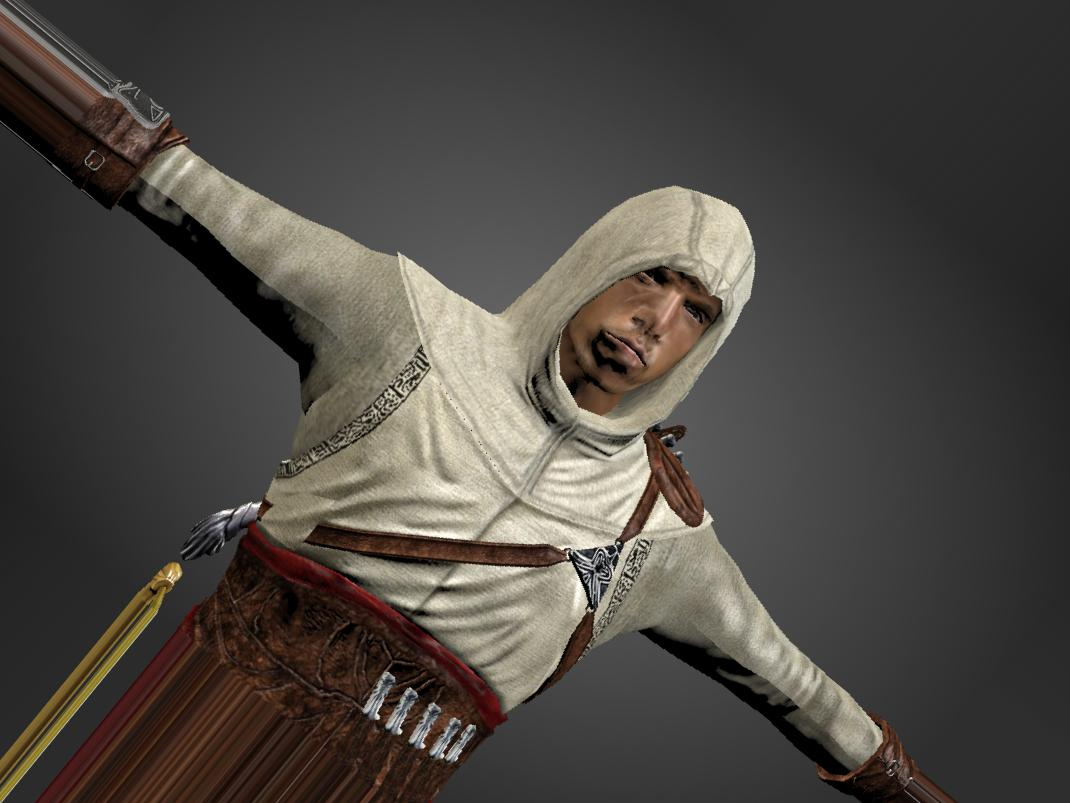clip: (261, 495, 329, 540)
